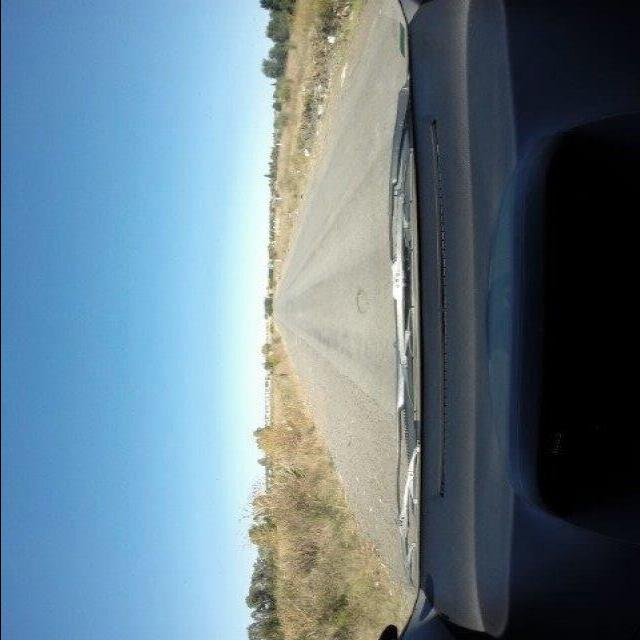lubang: (351, 288, 368, 319)
